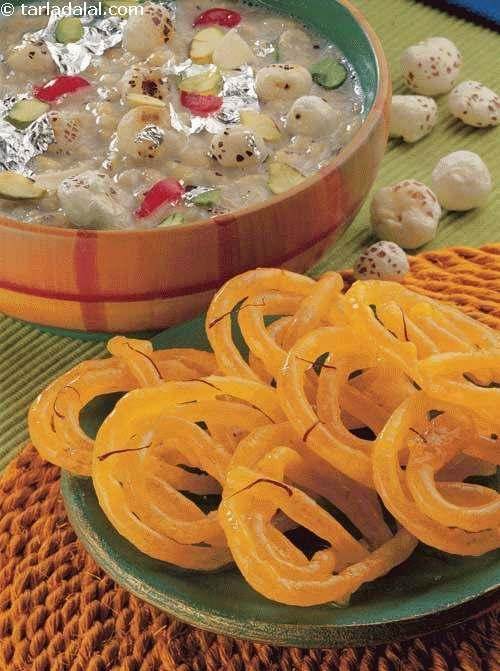jalebi: (22, 249, 476, 588)
